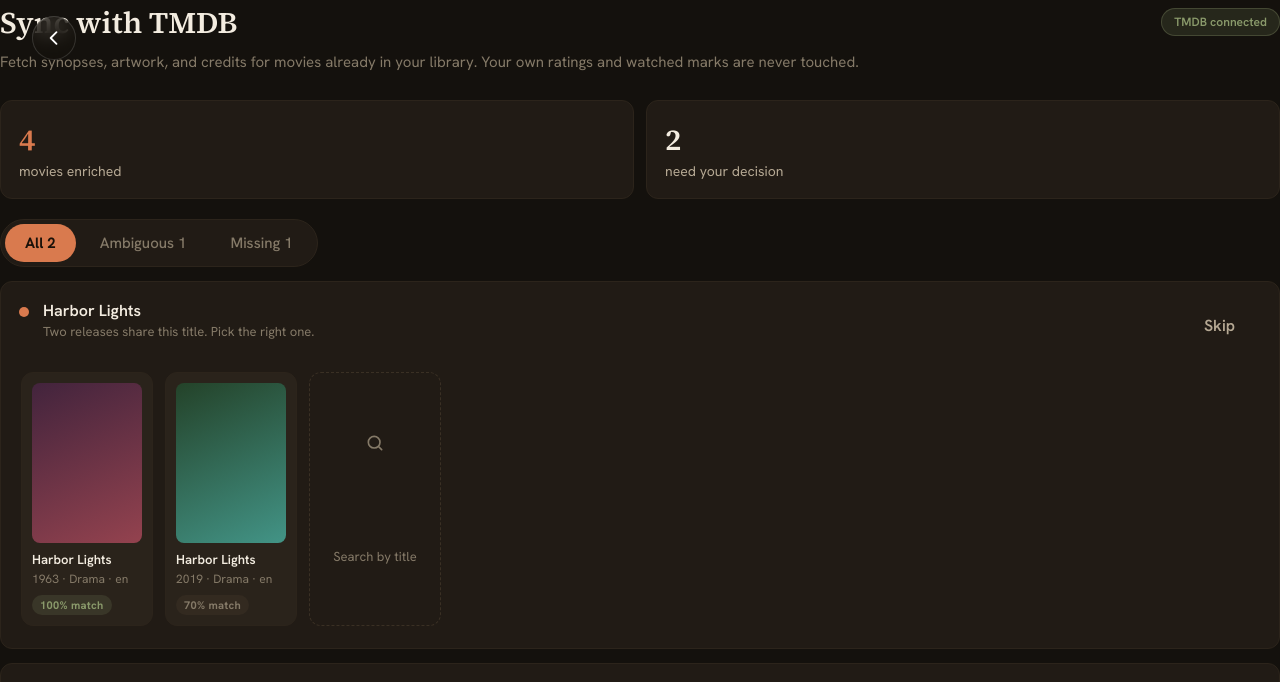
Test: EnrichmentFlow — picking a candidate › raises Match saved.
Check: the text "Two releases share this title. Pick the right one." is shown, box top-left (43, 323), bottom-right (314, 340)
Click the button "Harbor Lights 1963 · Drama · en 100% match".
click(87, 499)  # box top-left (21, 372), bottom-right (153, 626)
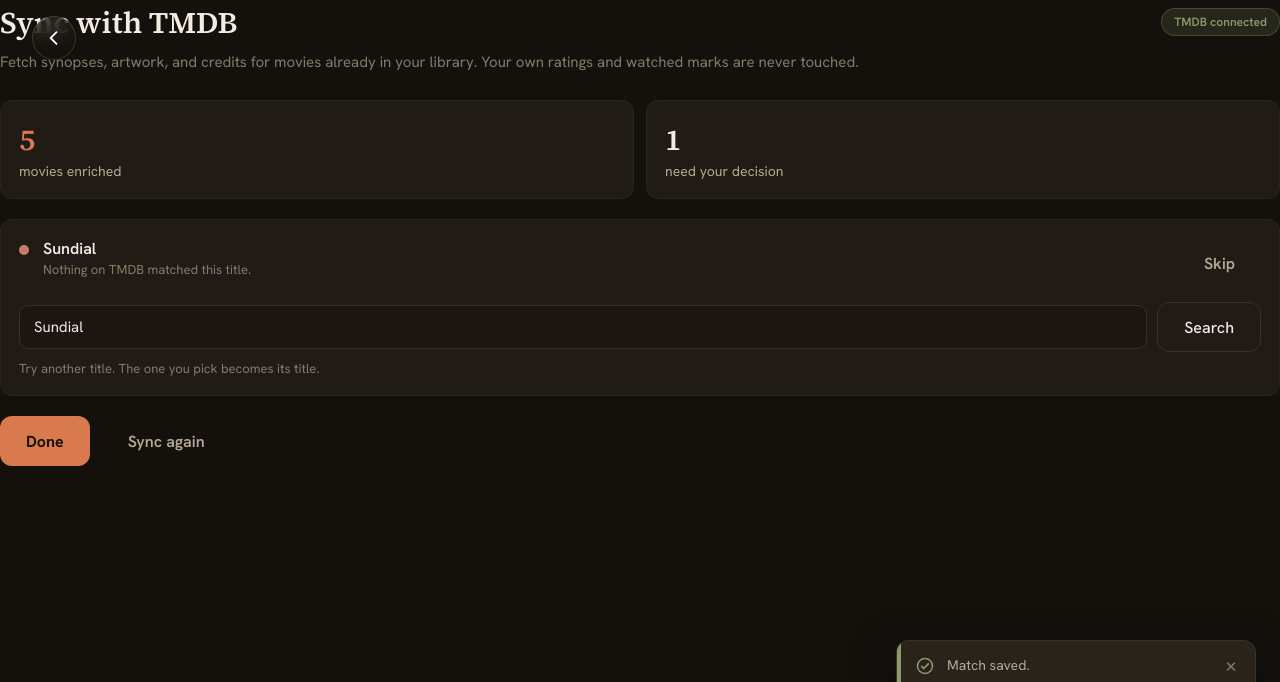
Check: the text "Match saved." is shown, box top-left (947, 656), bottom-right (1030, 674)
